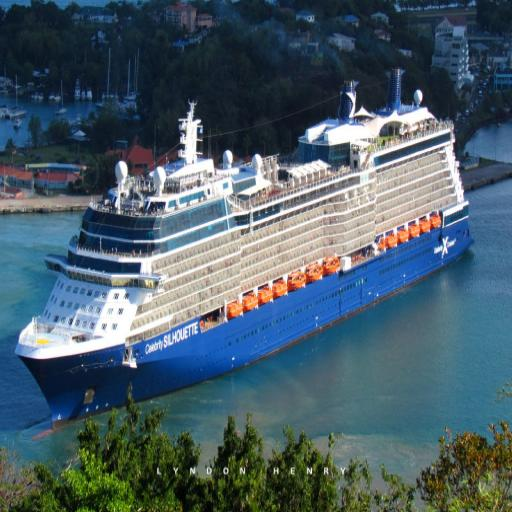cruises: (12, 64, 479, 443)
